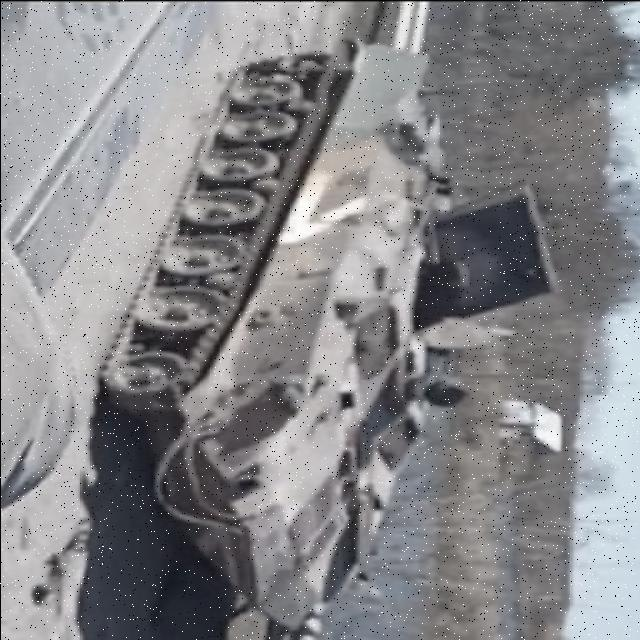APC-IFV: (87, 45, 493, 636)
